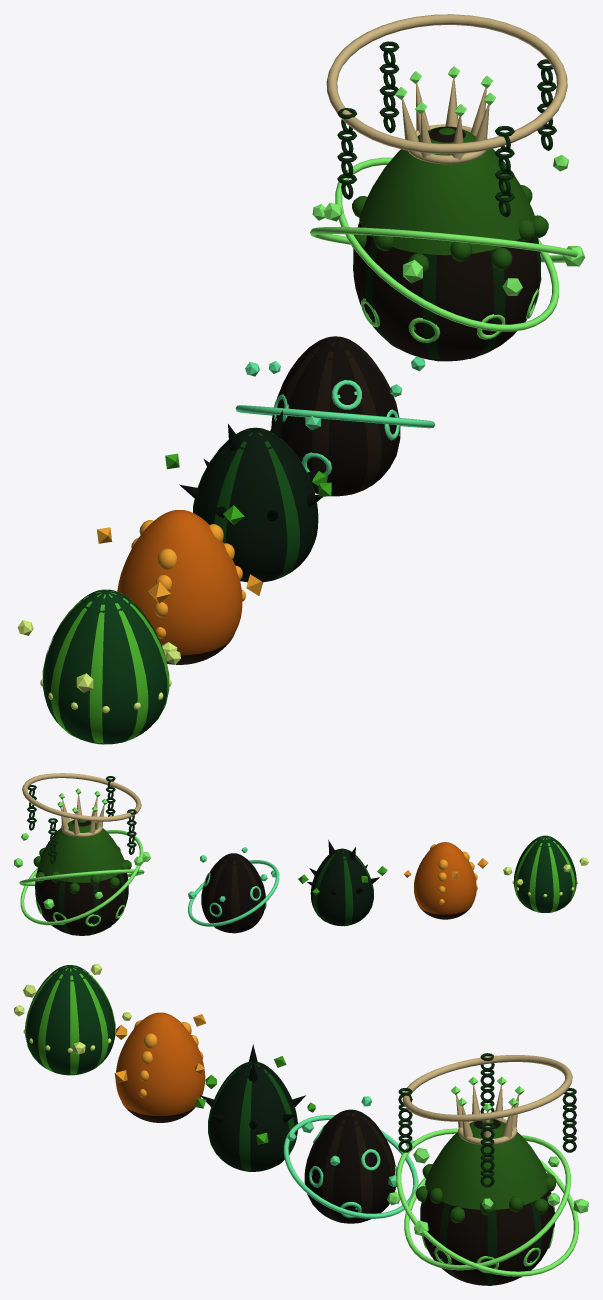
The model's file is eggs_forest_6to10.obj.
3 renders of one model, top to bottom at view 1: azimuth 30°, elevation 25°; view 2: azimuth 150°, elevation 25°; view 3: azimuth 270°, elevation 25°, orthographic. The views are drawn at different scales.
Visible parts, largest first — view 1: egg10_cap, egg10_shell_body, egg7_shell_body, egg6_shell_body, egg8_shell_body, egg9_shell_body, egg10_halo_ring, egg10_ring_2, egg10_ring_1, egg9_ring_1, egg9_stripe_1, egg6_stripe_8 (+5 smaller); view 2: egg7_shell_body, egg10_cap, egg10_shell_body, egg8_shell_body, egg6_shell_body, egg9_shell_body, egg10_halo_ring, egg10_ring_1, egg9_ring_1, egg10_ring_2, egg9_stripe_5, egg8_stripe_4 (+7 smaller); view 3: egg7_shell_body, egg10_cap, egg10_shell_body, egg8_shell_body, egg6_shell_body, egg9_shell_body, egg10_halo_ring, egg10_ring_1, egg10_ring_2, egg9_ring_1, egg8_stripe_2, egg9_stripe_3 (+6 smaller).
Boxes of the visible parts, left/top/right/bottom form: egg10_cap: left=359, top=126, right=534, bottom=255; egg10_shell_body: left=353, top=127, right=540, bottom=361; egg7_shell_body: left=117, top=510, right=242, bottom=655; egg6_shell_body: left=43, top=589, right=167, bottom=744; egg8_shell_body: left=193, top=428, right=318, bottom=582; egg9_shell_body: left=271, top=336, right=399, bottom=496; egg10_halo_ring: left=326, top=14, right=567, bottom=154; egg10_ring_2: left=335, top=157, right=558, bottom=331; egg10_ring_1: left=310, top=227, right=577, bottom=262; egg9_ring_1: left=235, top=405, right=434, bottom=428; egg9_stripe_1: left=338, top=341, right=381, bottom=494; egg6_stripe_8: left=89, top=594, right=105, bottom=744; egg7_shell_body: left=414, top=842, right=476, bottom=914; egg10_cap: left=38, top=820, right=125, bottom=882; egg10_shell_body: left=35, top=819, right=128, bottom=935; egg8_shell_body: left=310, top=848, right=373, bottom=926; egg6_shell_body: left=514, top=835, right=576, bottom=912; egg9_shell_body: left=201, top=853, right=265, bottom=932; egg10_halo_ring: left=22, top=773, right=141, bottom=821; egg10_ring_1: left=20, top=830, right=143, bottom=925; egg9_ring_1: left=188, top=860, right=279, bottom=926; egg10_ring_2: left=19, top=869, right=144, bottom=885; egg9_stripe_5: left=231, top=855, right=239, bottom=933; egg8_stripe_4: left=342, top=851, right=353, bottom=926; egg7_shell_body: left=115, top=1012, right=205, bottom=1115; egg10_cap: left=425, top=1119, right=548, bottom=1209; egg10_shell_body: left=421, top=1119, right=554, bottom=1285; egg8_shell_body: left=209, top=1061, right=297, bottom=1171; egg6_shell_body: left=26, top=965, right=115, bottom=1075; egg9_shell_body: left=306, top=1109, right=395, bottom=1223; egg10_halo_ring: left=402, top=1055, right=572, bottom=1121; egg10_ring_1: left=396, top=1128, right=578, bottom=1276; egg10_ring_2: left=404, top=1135, right=570, bottom=1270; egg9_ring_1: left=283, top=1115, right=418, bottom=1218; egg8_stripe_2: left=239, top=1065, right=252, bottom=1171; egg9_stripe_3: left=352, top=1113, right=372, bottom=1223.
Bounding box in the file's own units: 7.09 × 2.52 × 6.02.
